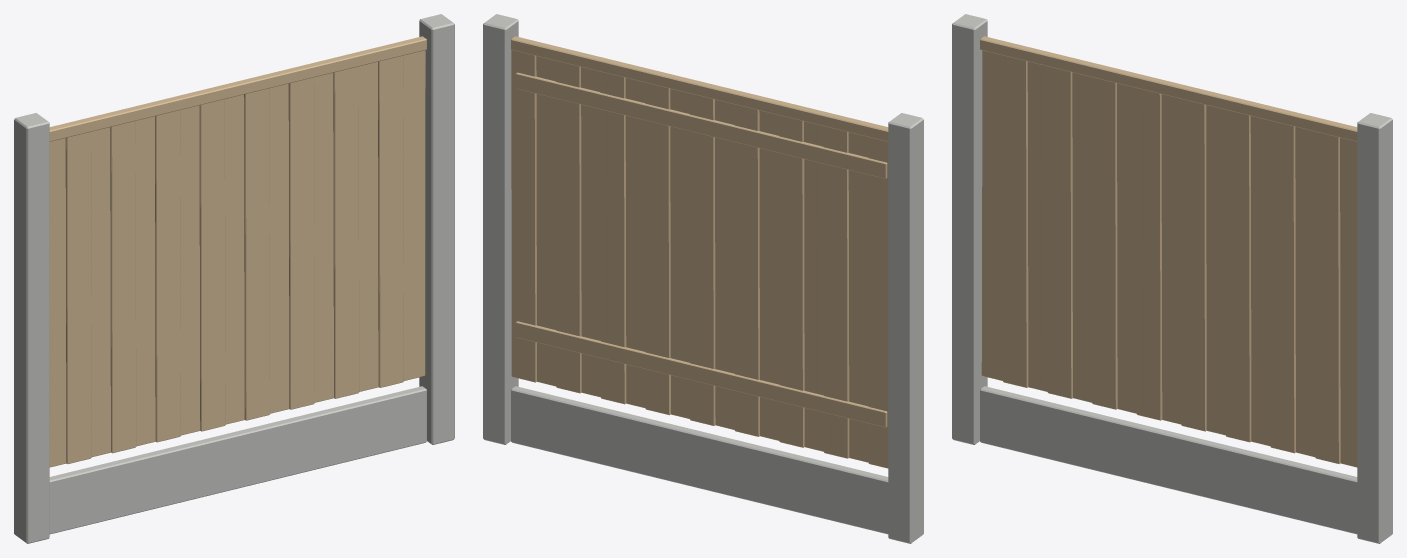
The model's file is garden-centre-and-florist-sales-area-fence-panel-7868602e__17712.glb.
3 renders of one model, left to right at view 1: azimuth 30°, elevation 25°; view 2: azimuth 150°, elevation 25°; view 3: azimuth 330°, elevation 25°, orthographic.
Visible parts, largest first — view 1: sales-area-fence-panel; view 2: sales-area-fence-panel; view 3: sales-area-fence-panel.
Boxes of the visible parts, bbox=[...] form: sales-area-fence-panel: bbox=[14, 14, 454, 543]; sales-area-fence-panel: bbox=[483, 14, 923, 543]; sales-area-fence-panel: bbox=[952, 14, 1392, 543].
Size of the model in its own units: 2 by 1.86 by 0.1101.
